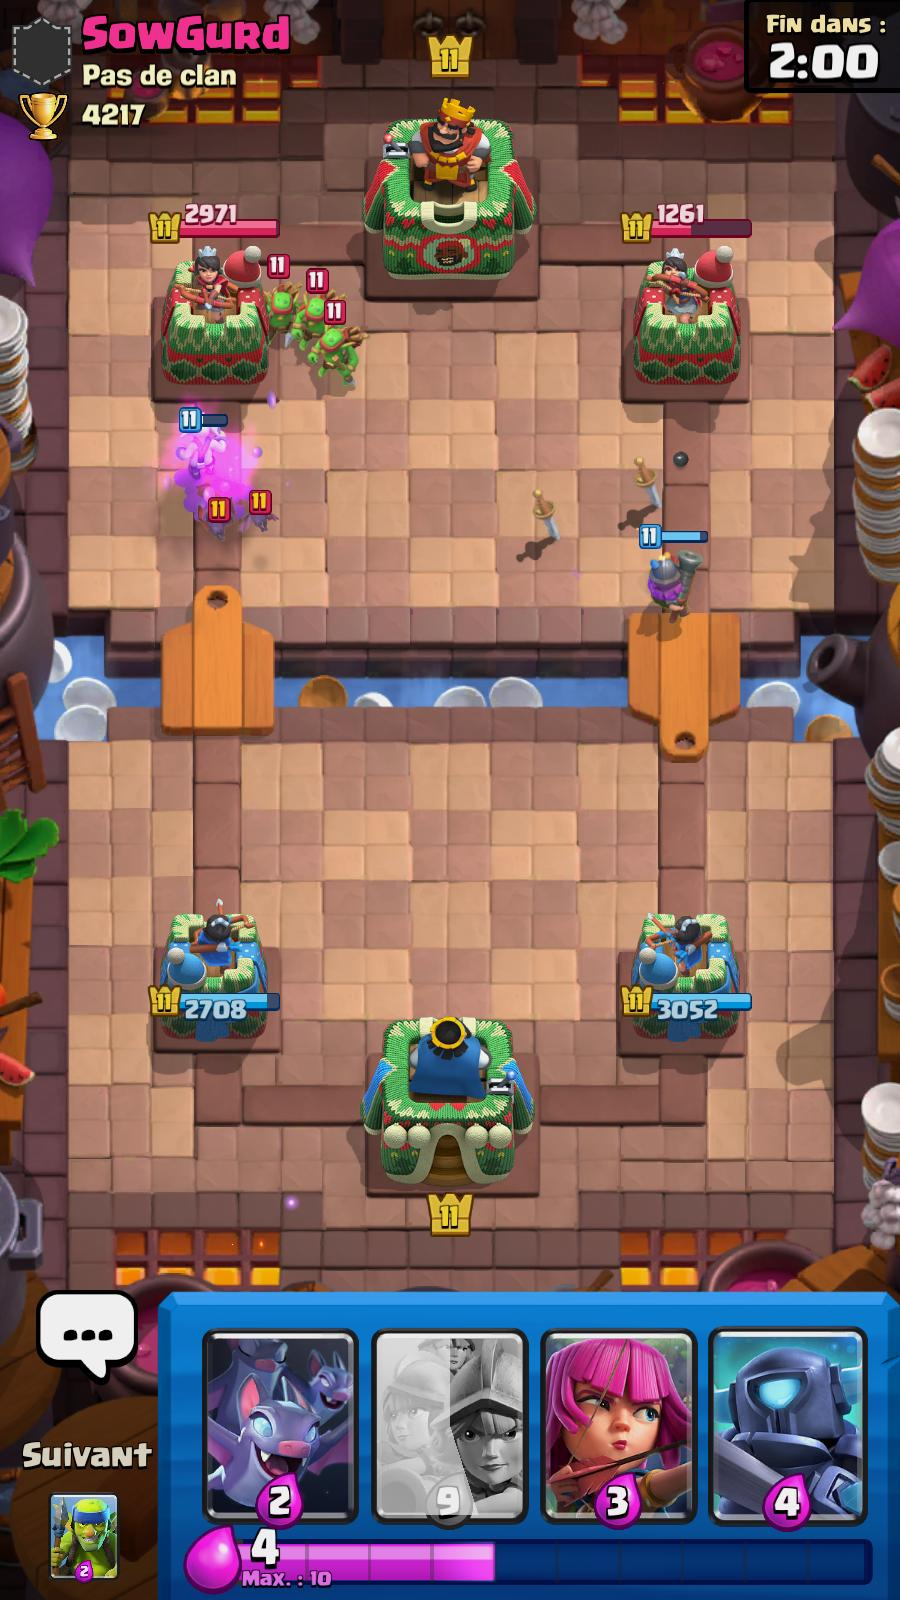bat: (196, 497, 246, 536), (242, 488, 278, 533)
gobelin: (177, 410, 229, 490)
gobelin_lances: (312, 299, 367, 380), (296, 269, 338, 353), (260, 257, 299, 338)
mousquetaire: (638, 522, 707, 615)
